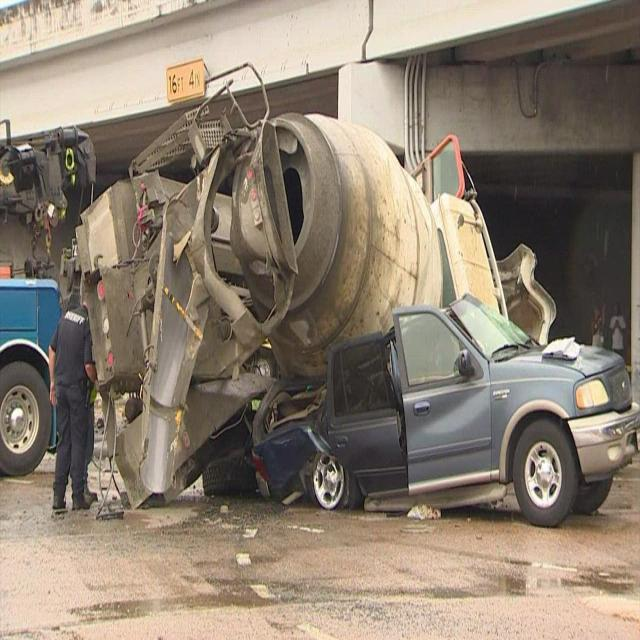Accident: (76, 64, 640, 533)
